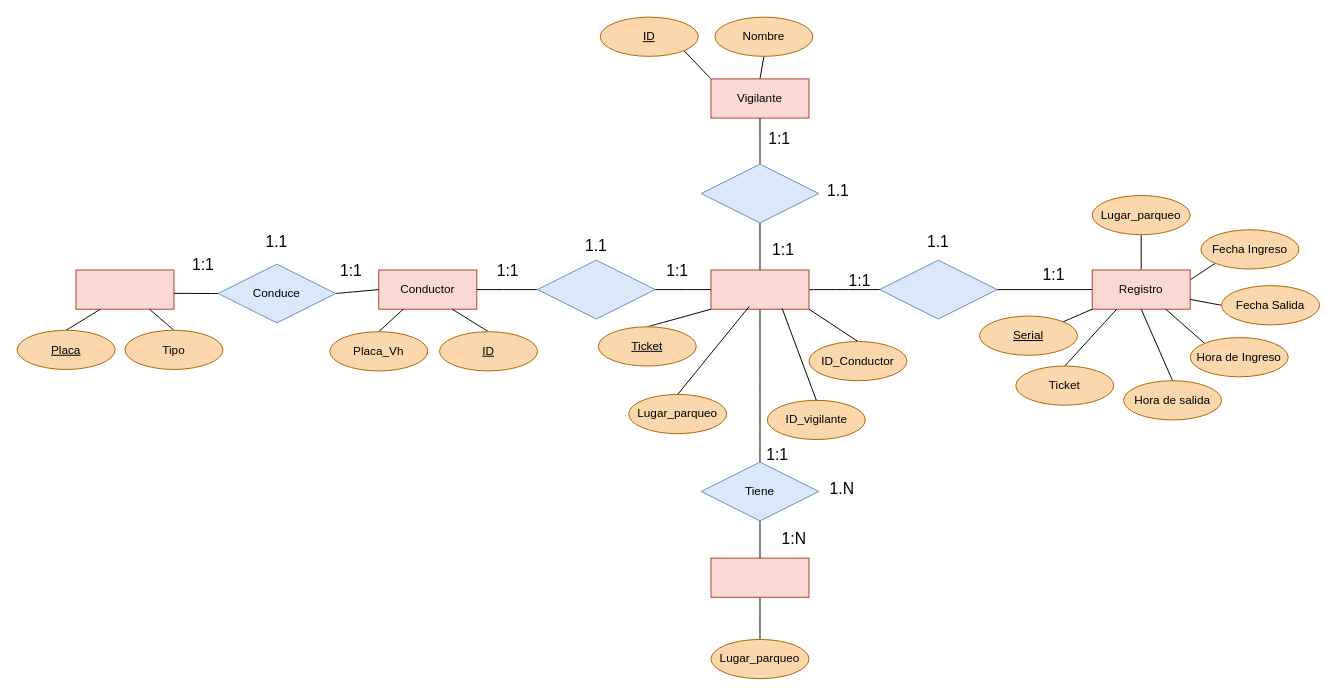
This 1337x696 diagram has some shape labels left out. The centre of each missing label's shape, as x and y in pixels:
Cuida: point 759,193
Lugar_Parking: point 759,577
Parking: point 759,289
Usa: point 596,289
Utiliza: point 938,289
Vehiculo: point 124,289
